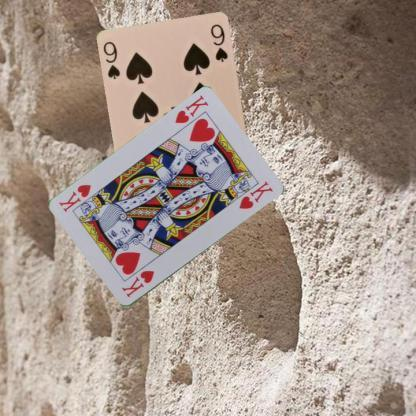9s: (100, 39, 122, 81)
Kh: (172, 92, 209, 126), (118, 268, 156, 299)
